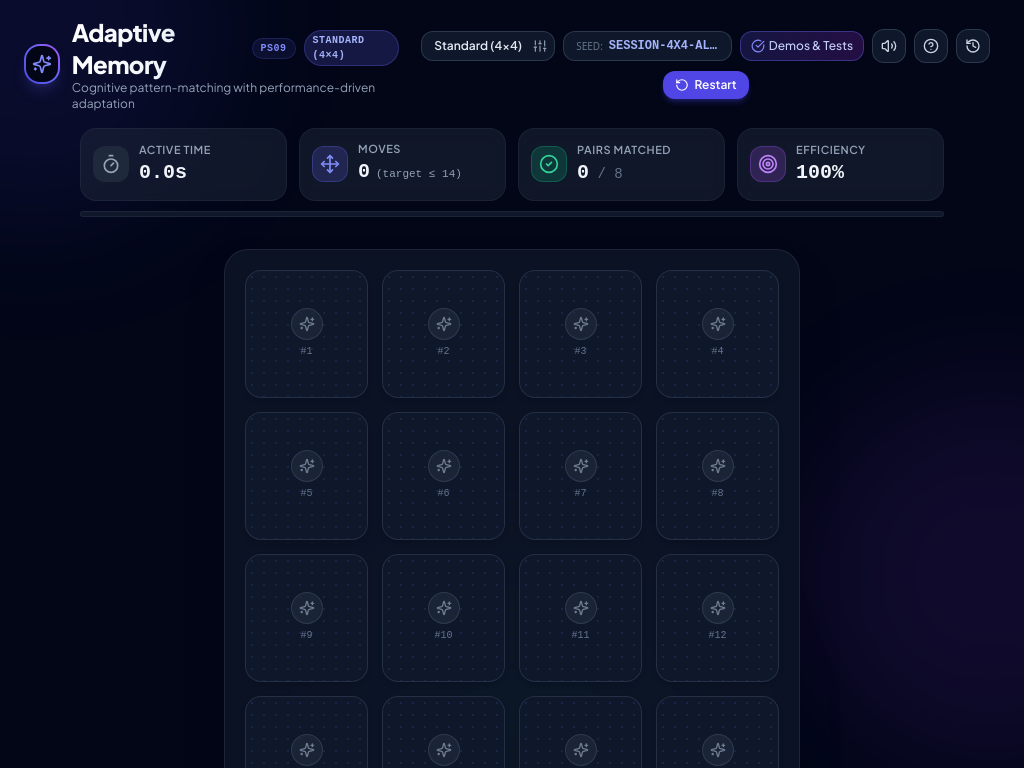
App Component Integration & UI Controls › opens and closes instructions modal with documented rules
What coordinates should you click on to do the following:
click the button with test id "instructions-button"
I would click on:
 (931, 46)
Its box is [914, 29, 948, 63].
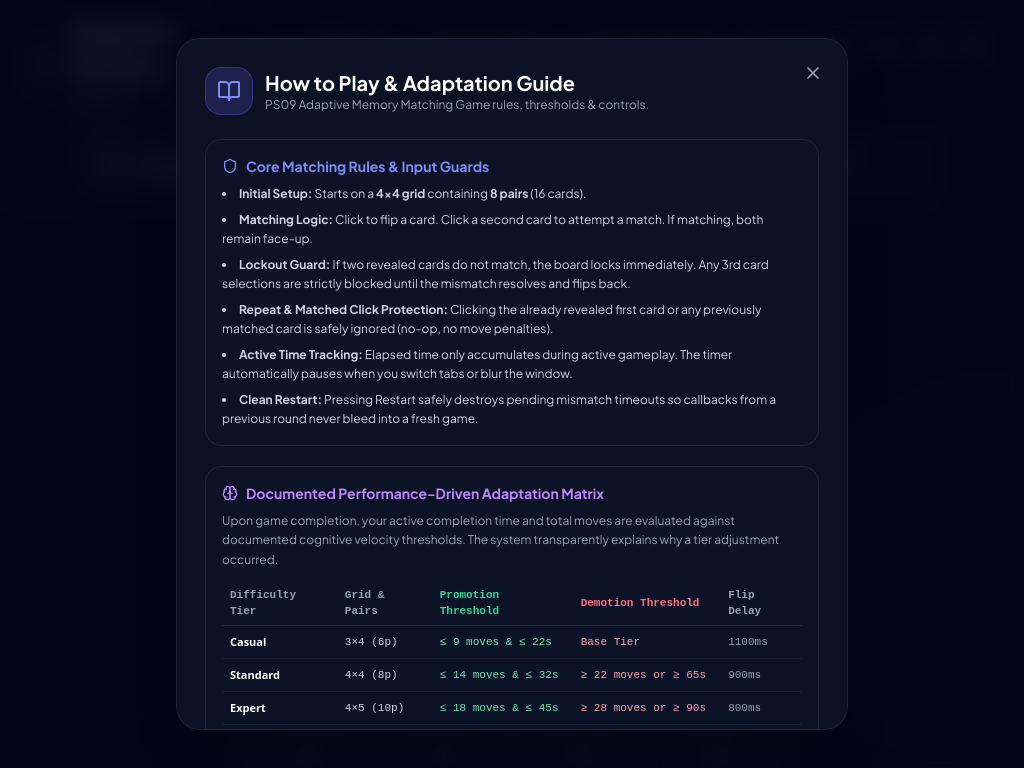
Expected: the heading "How to Play & Adaptation Guide" is shown, [265, 70, 575, 95]
Expected: the text "Documented Performance-Driven Adaptation Matrix" is shown, [246, 483, 604, 503]
What coordinates should you click on to do the following:
click the button with test id "close-instructions-button"
I would click on:
 (813, 73)
Its box is [795, 55, 831, 91].
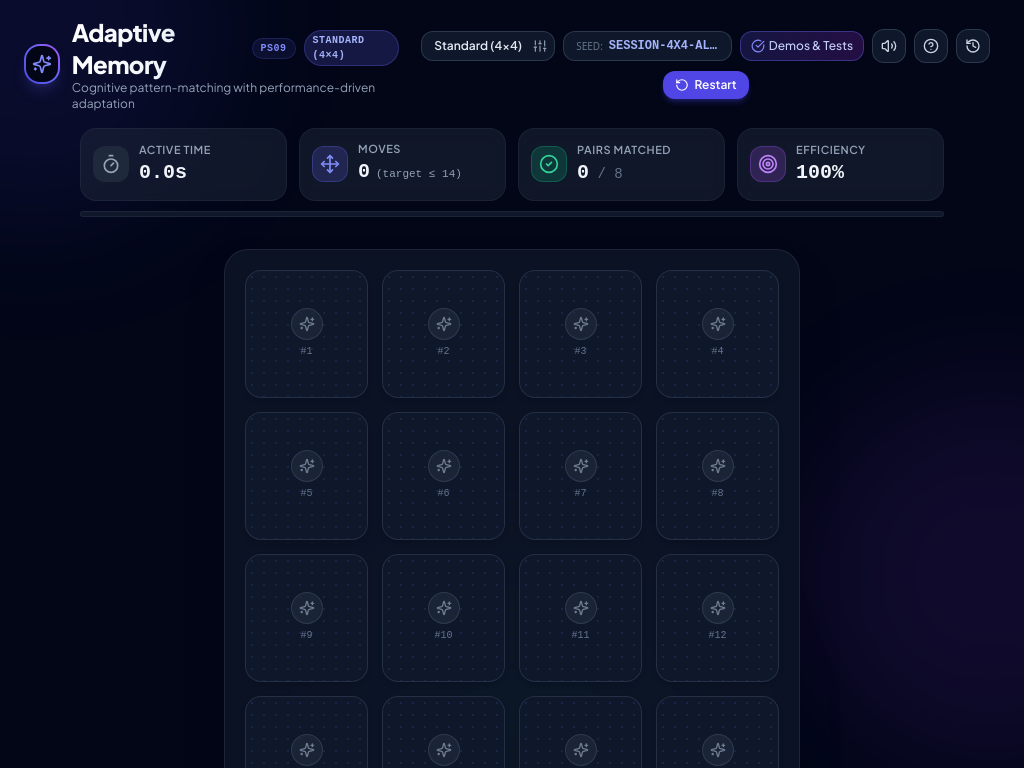
Expected: the heading "How to Play & Adaptation Guide" is gone
